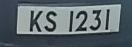1: (65, 9, 77, 33), (101, 7, 112, 33)
2: (74, 8, 89, 34)
3: (89, 8, 104, 32)
K: (28, 10, 44, 34)
S: (43, 9, 59, 34)
